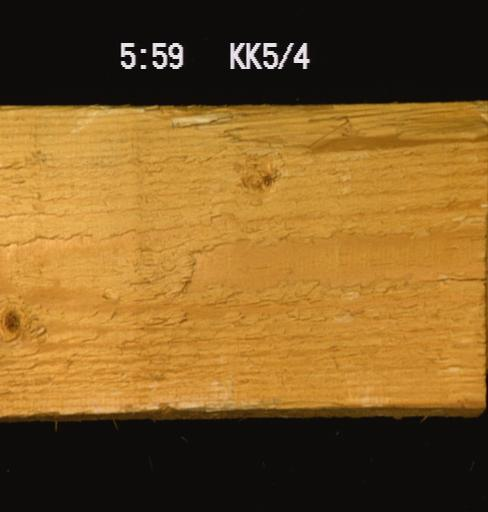small_knot: (231, 149, 290, 196)
sound_knot: (0, 295, 49, 354)
split: (414, 270, 486, 292)
wave: (149, 101, 487, 155)
